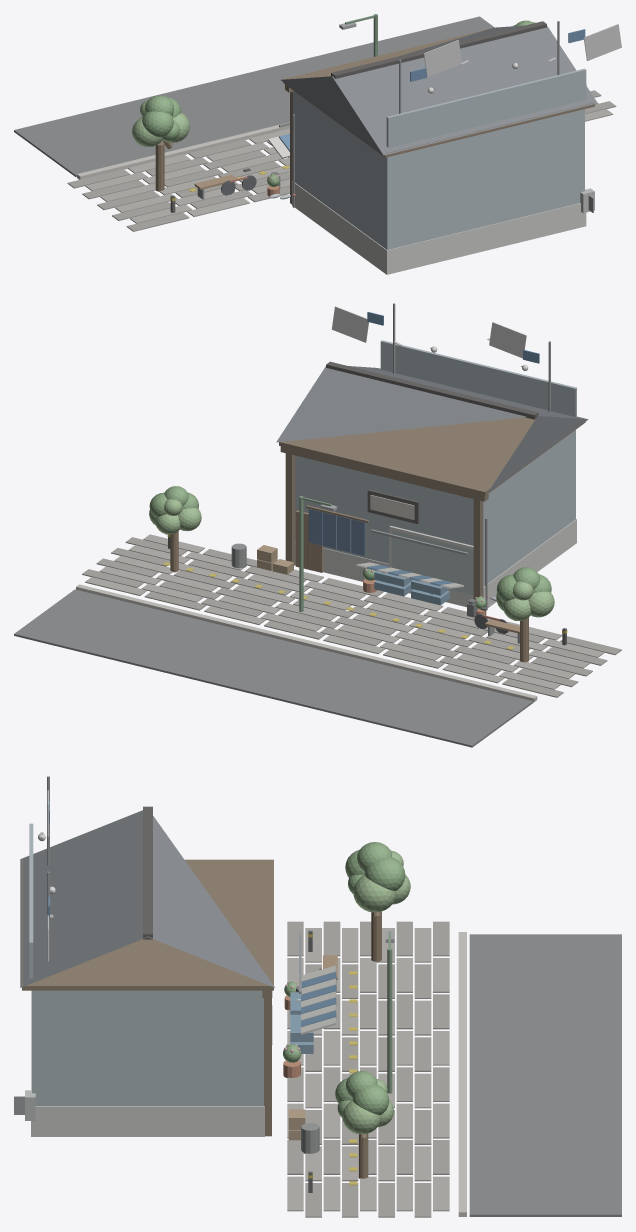
File: fishshop_02.glb
3 views of the same model, one above another, from view 1: azimuth 30°, elevation 25°; view 2: azimuth 150°, elevation 25°; view 3: azimuth 270°, elevation 25° (orthographic). The views are drawn at different scales.
Parts seen in each view (by area): view 1: geometry_0; view 2: geometry_0; view 3: geometry_0.
Part boxes in pixels (x1,y1,x2,y2): geometry_0: [14, 14, 621, 274]; geometry_0: [14, 303, 621, 747]; geometry_0: [14, 776, 621, 1217].
Size of the model in its own units: 21.05 by 8.64 by 18.34.
